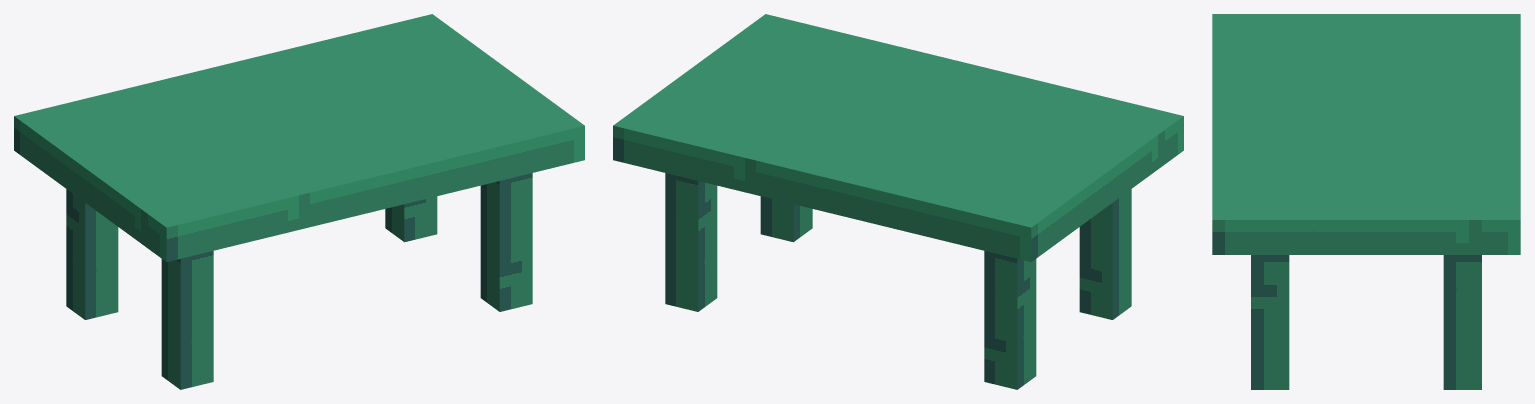
File: int_boiler_table_nuzuao.fezao.glb
The picture shows the model from 3 angles, left to right: view 1: azimuth 30°, elevation 25°; view 2: azimuth 150°, elevation 25°; view 3: azimuth 270°, elevation 25°; orthographic projection.
Visible parts, largest first — view 1: INT_BOILER_TABLE_NUZUAO; view 2: INT_BOILER_TABLE_NUZUAO; view 3: INT_BOILER_TABLE_NUZUAO.
Boxes of the visible parts, bbox=[...] form: INT_BOILER_TABLE_NUZUAO: bbox=[14, 14, 584, 389]; INT_BOILER_TABLE_NUZUAO: bbox=[613, 14, 1183, 389]; INT_BOILER_TABLE_NUZUAO: bbox=[1212, 14, 1520, 389].
Size of the model in its own units: 2.38 by 1 by 1.5.
Materials: 1 (1 with a texture image).
